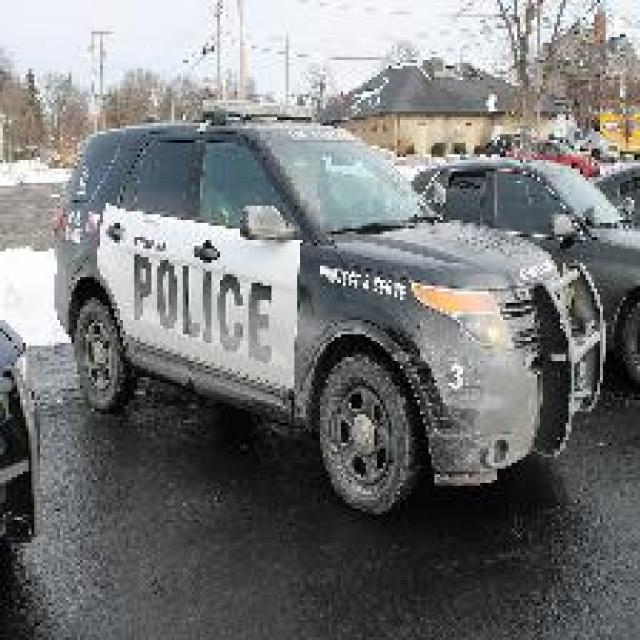Car: (406, 152, 637, 392)
Police-car: (49, 103, 606, 514)
